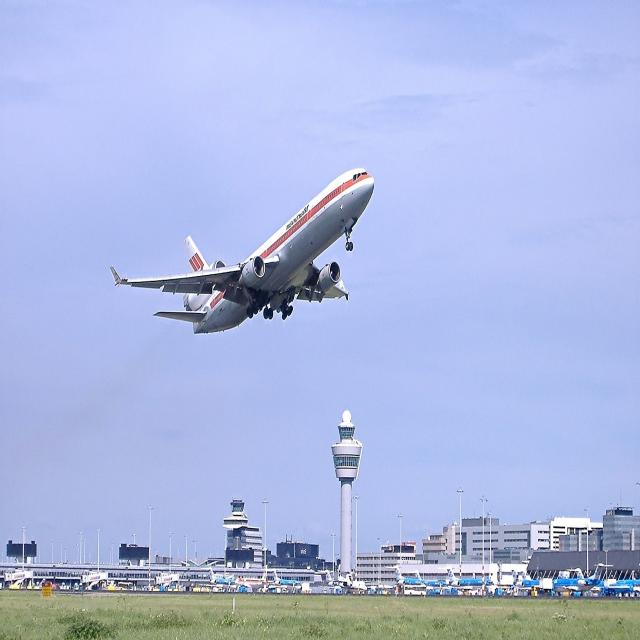plain: (104, 153, 379, 350)
